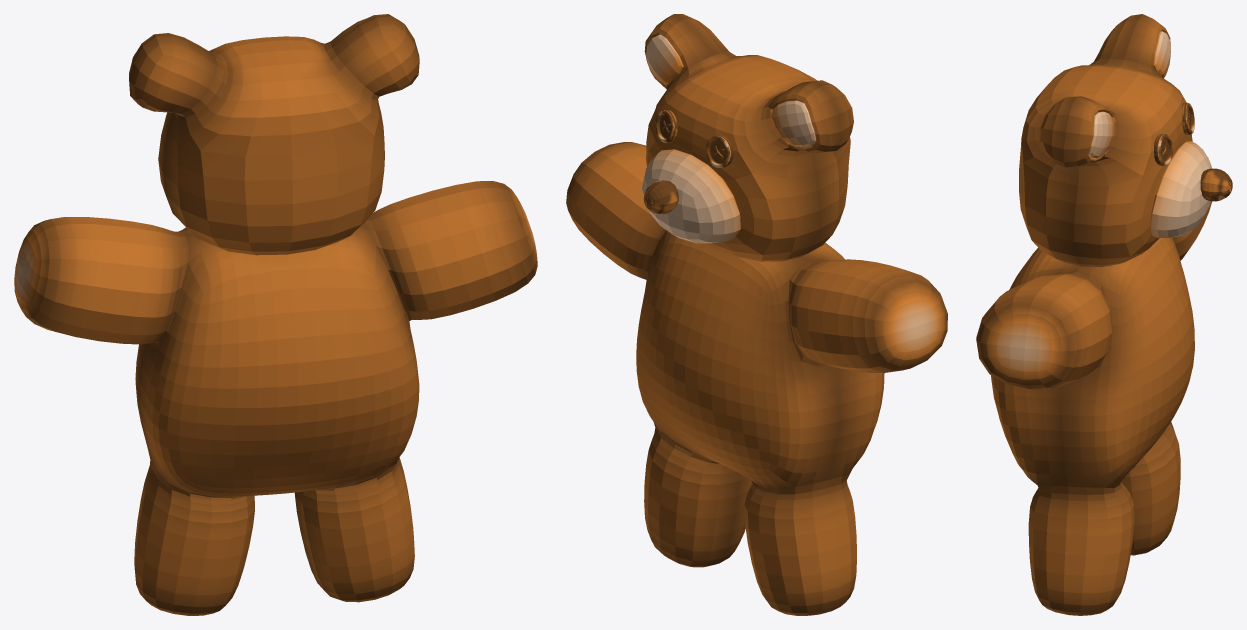
Rendered from teddy.fbx.
The picture shows the model from 3 angles, left to right: view 1: azimuth 30°, elevation 25°; view 2: azimuth 150°, elevation 25°; view 3: azimuth 270°, elevation 25°; orthographic projection. The views are drawn at different scales.
Parts seen in each view (by area): view 1: teddy:Mesh; view 2: teddy:Mesh; view 3: teddy:Mesh.
Part boxes in pixels (x1,y1,x2,y2): teddy:Mesh: (14, 14, 537, 615); teddy:Mesh: (566, 14, 947, 615); teddy:Mesh: (976, 14, 1232, 615).
Bounding box in the file's own units: 25.22 × 30.94 × 13.82.
